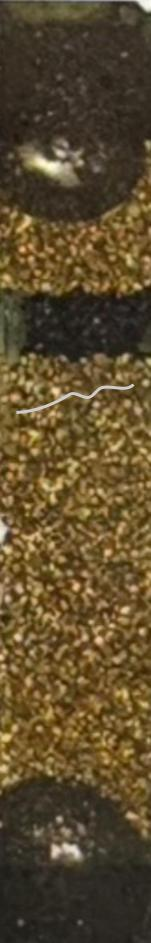blackline: (16, 381, 135, 414)
